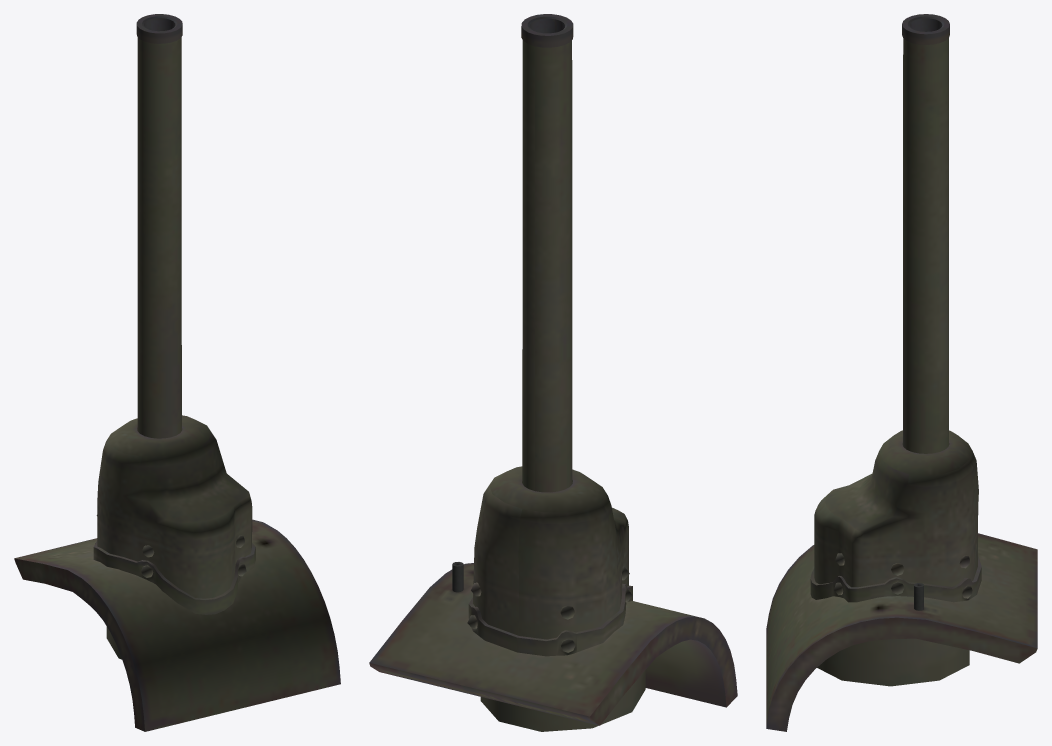
File: Gun_04.glb
3 renders of one model, left to right at view 1: azimuth 30°, elevation 25°; view 2: azimuth 150°, elevation 25°; view 3: azimuth 270°, elevation 25°, orthographic. The views are drawn at different scales.
Parts seen in each view (by area): view 1: set_0_group_0; view 2: set_0_group_0; view 3: set_0_group_0.
Boxes of the visible parts, left/top/right/bottom form: set_0_group_0: left=14, top=14, right=340, bottom=731; set_0_group_0: left=369, top=14, right=737, bottom=731; set_0_group_0: left=766, top=14, right=1037, bottom=731.
Size of the model in its own units: 0.5457 by 1.68 by 0.6326.
1 material, 1 textured.
